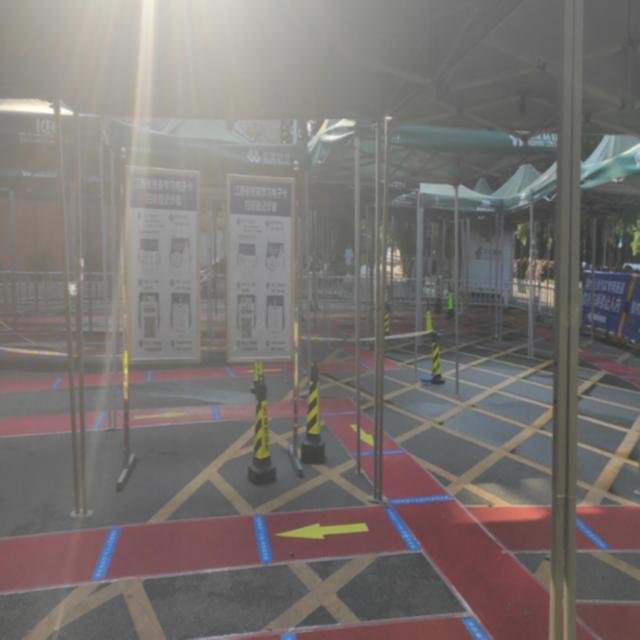reflective_cone: (246, 372, 276, 484), (300, 358, 326, 462), (429, 323, 445, 384), (249, 358, 268, 392), (446, 286, 455, 318), (432, 278, 442, 305), (425, 302, 432, 336), (384, 302, 390, 338), (385, 284, 390, 308)
